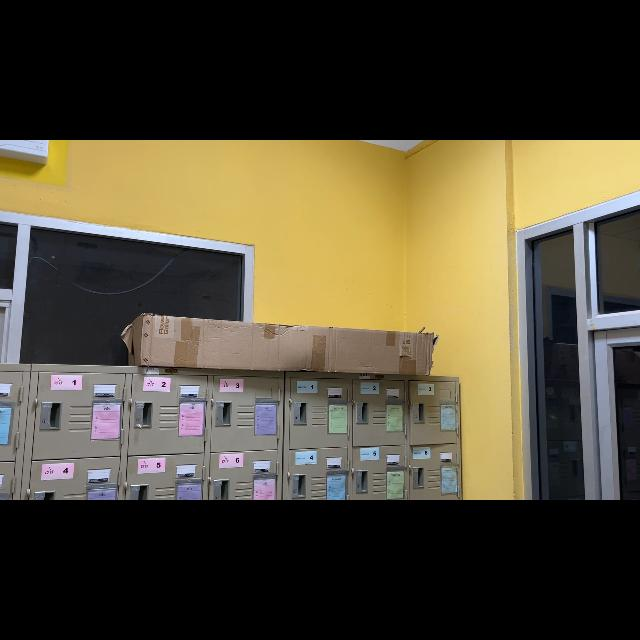cardboard_box: (120, 310, 436, 382)
